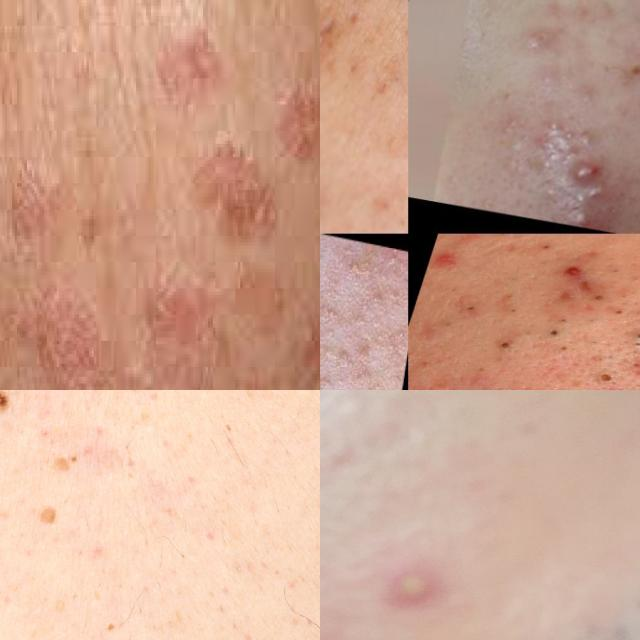comedone: (590, 302, 640, 319), (493, 332, 529, 352), (526, 238, 566, 254), (497, 303, 529, 319), (542, 322, 566, 343), (626, 314, 640, 346), (593, 366, 619, 382), (457, 298, 483, 314)
papule: (430, 246, 464, 277), (551, 260, 592, 282)
pustule: (572, 156, 602, 176)
sebo-crystan-conglo: (532, 122, 574, 176), (568, 185, 606, 215)
